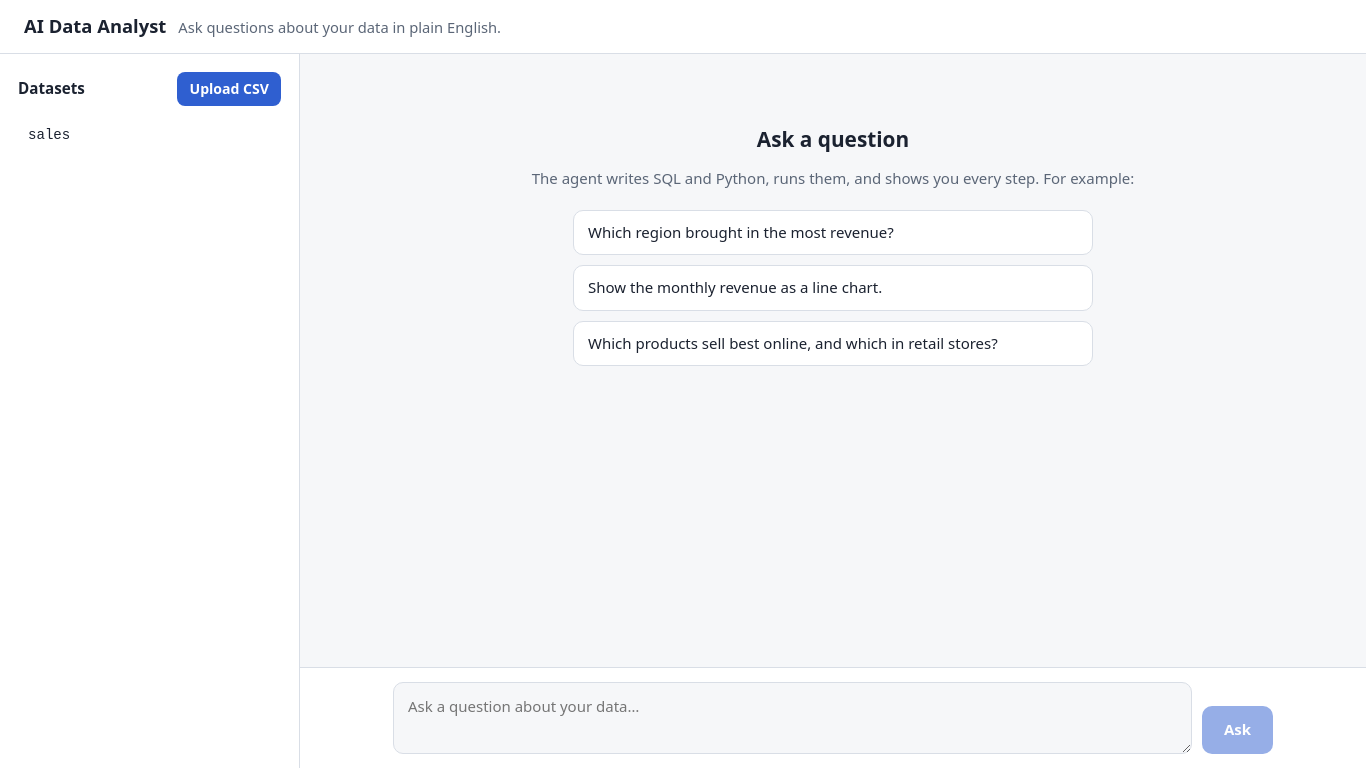
it: AnalystApp › answers a question, showing each step, the table and the chart
Check: the button "sales" is shown, box [18,118,281,153]
Type "Which region sold most?" into the text box named "Your question". click: (792, 718)
box: [393,682,1192,754]
Then press Enter
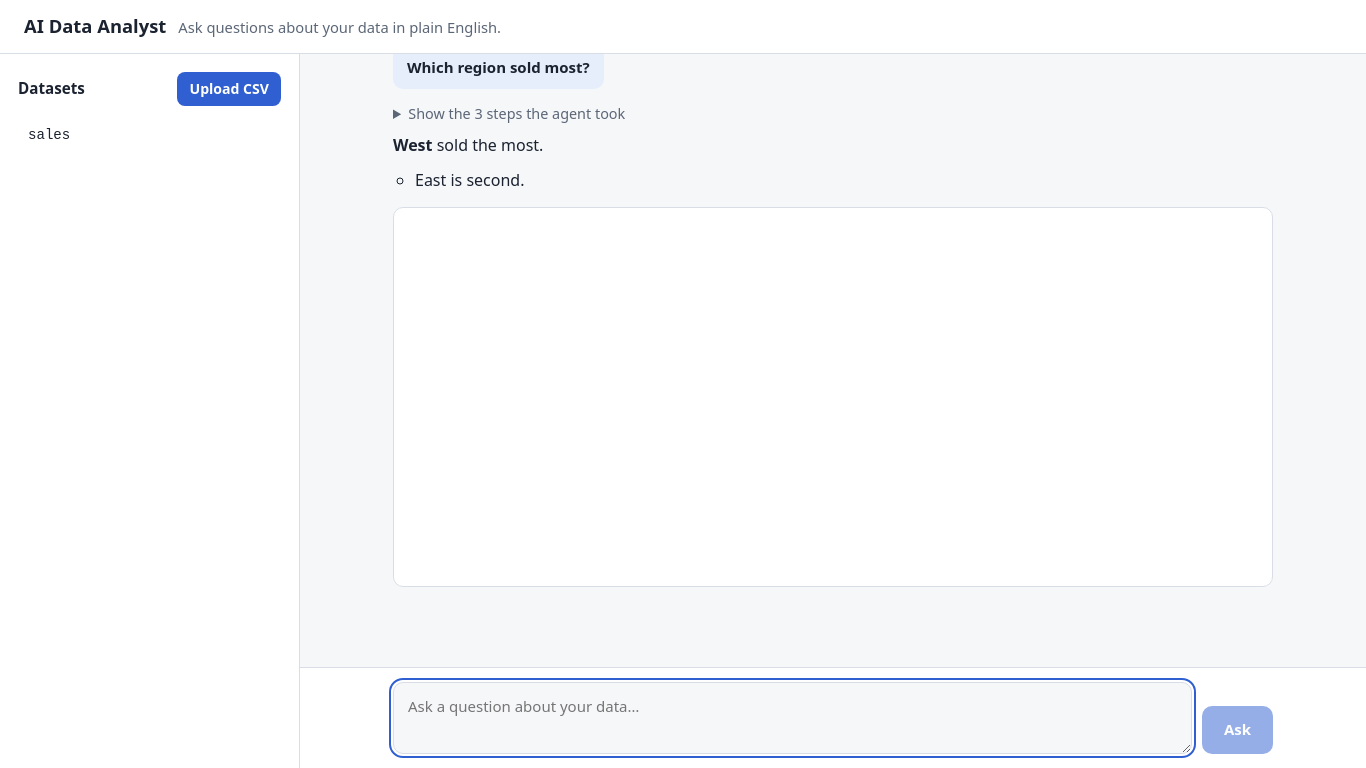
Check: the text "West" is shown, box [393,134,432,156]
Check: the text "Which region sold most?" is shown, box [393,54,604,89]
Check: the heading "Show the 3 steps the agent took" is shown, box [408,104,625,123]
